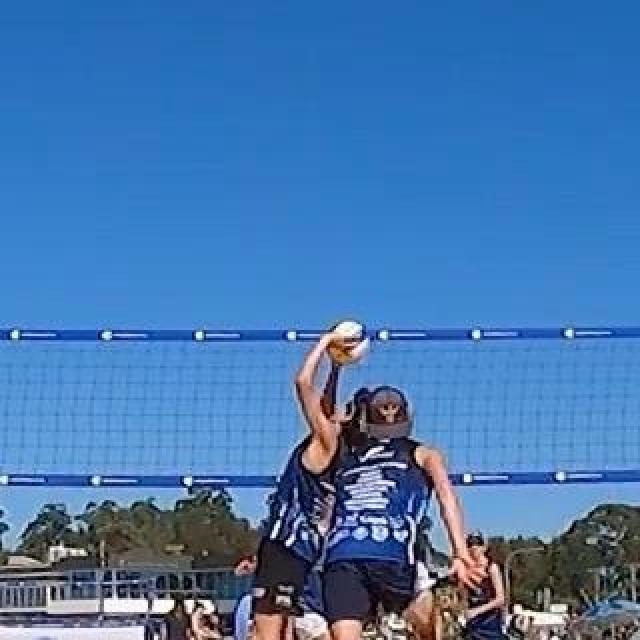volleyball: (325, 320, 367, 364), (6, 328, 22, 342), (98, 330, 114, 344)
